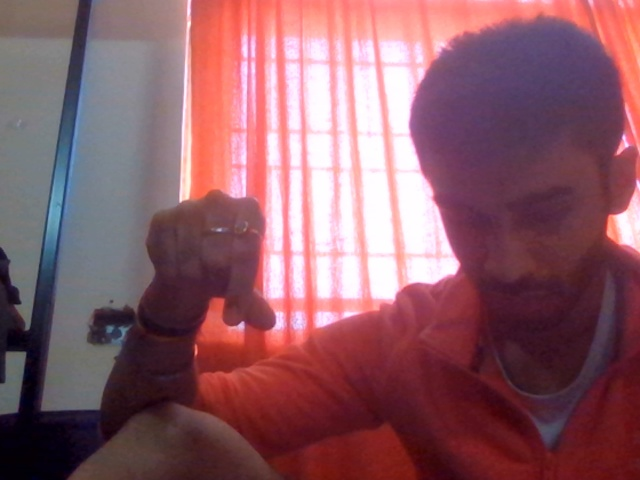Q: (122, 171, 324, 379)
